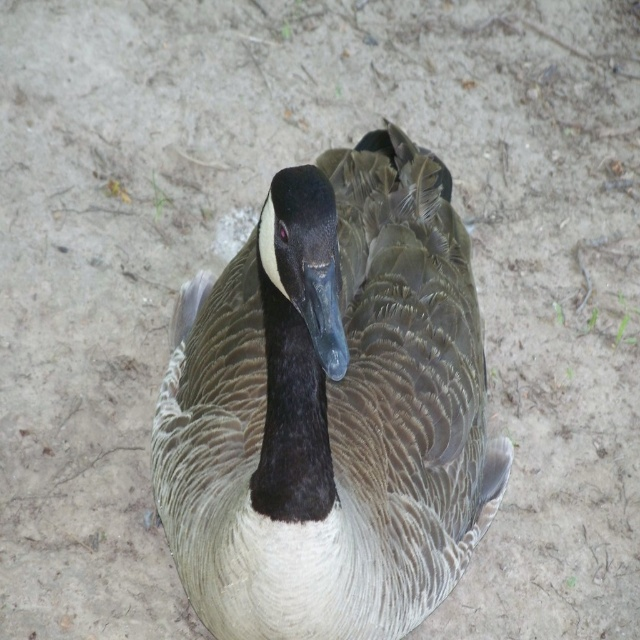Duck: (164, 125, 438, 634)
